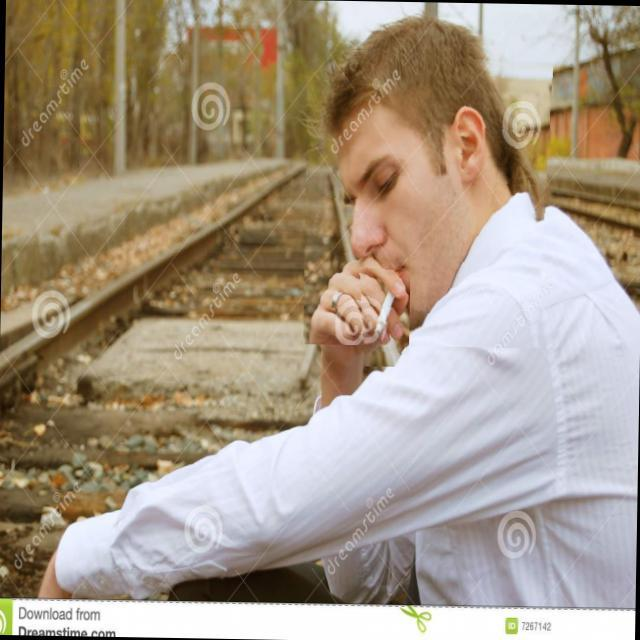cigarette: (357, 266, 410, 366)
